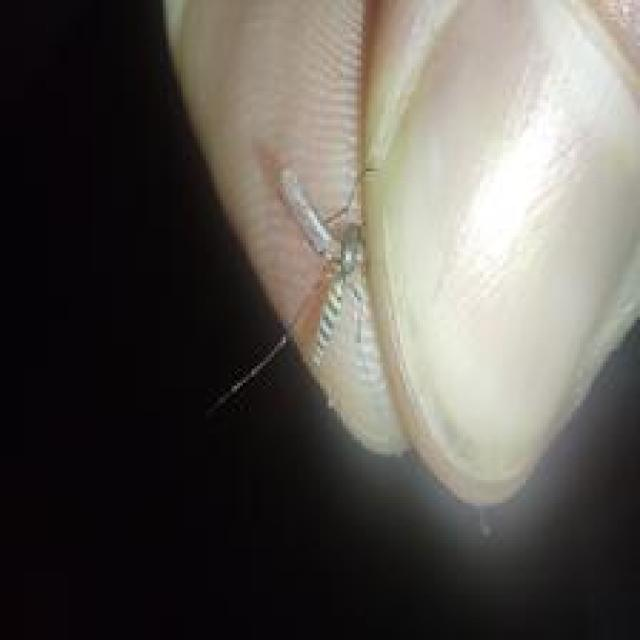Culex: (160, 0, 640, 526)
